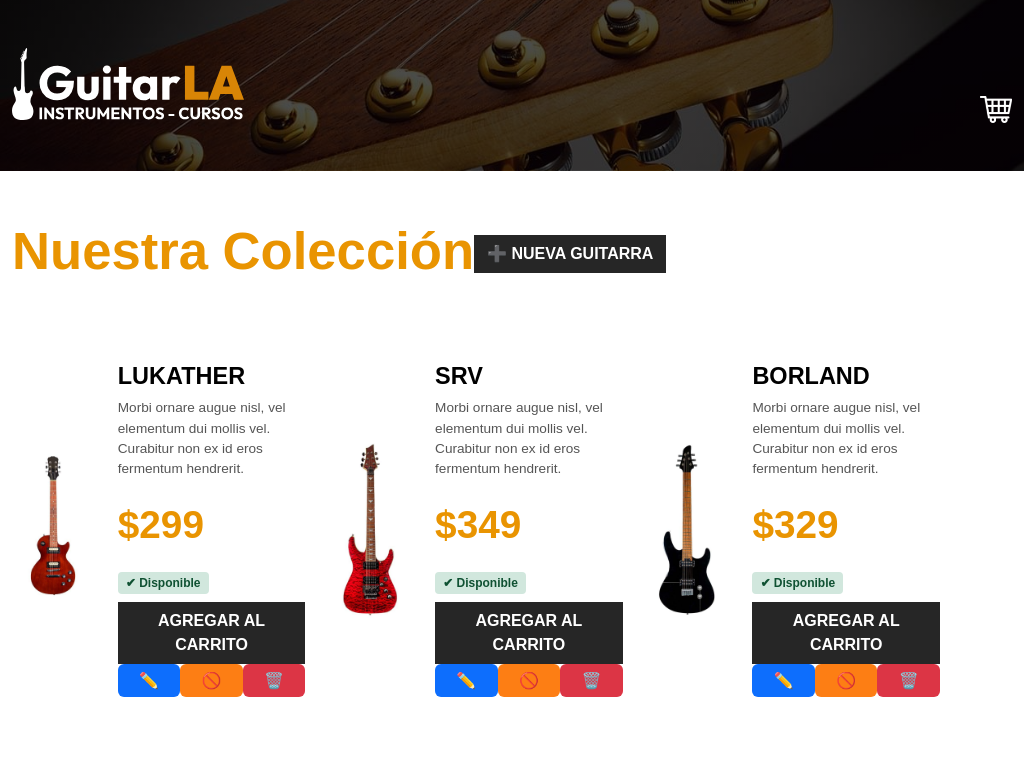
Test case: Modal de guitarra (crear/editar) › deberia cerrar el modal al hacer clic en "Cancelar"
What coordinates should you click on to do the following:
click the button titled "Agregar nueva guitarra"
I would click on:
 (570, 254)
Its box is [474,235,666,273].
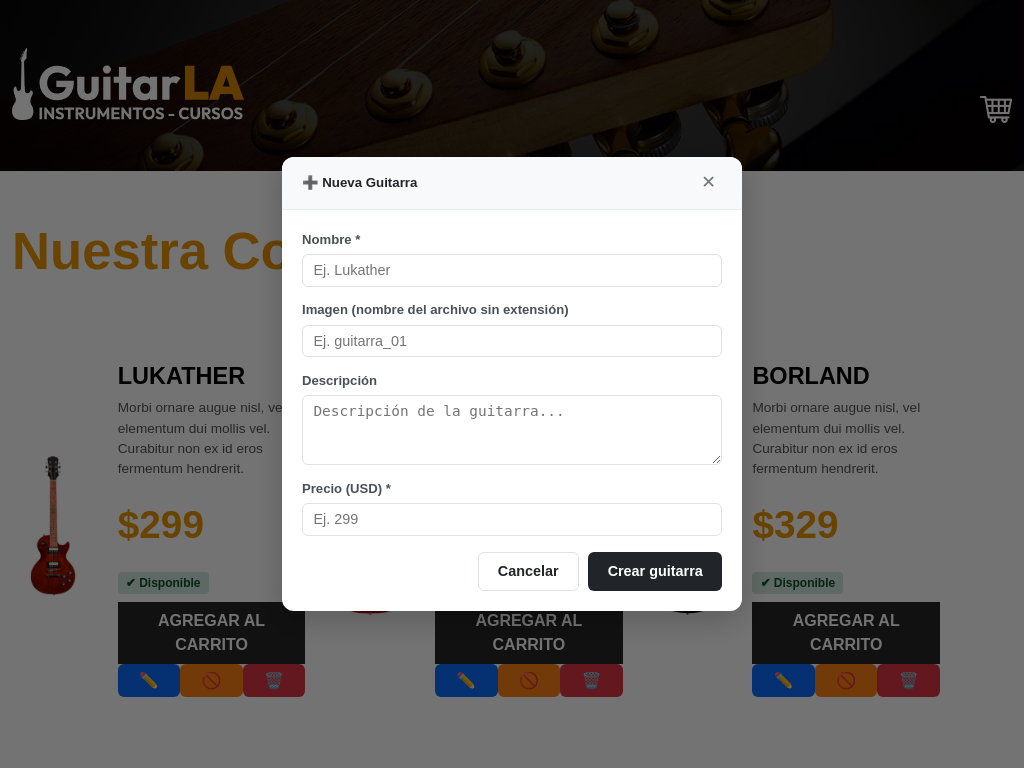
Expected: the button "Crear guitarra" is shown, [588,552,722,591]
What coordinates should you click on to do the following:
click the button "Cancelar"
I would click on:
 (528, 571)
Its box is [478,552,579,591].
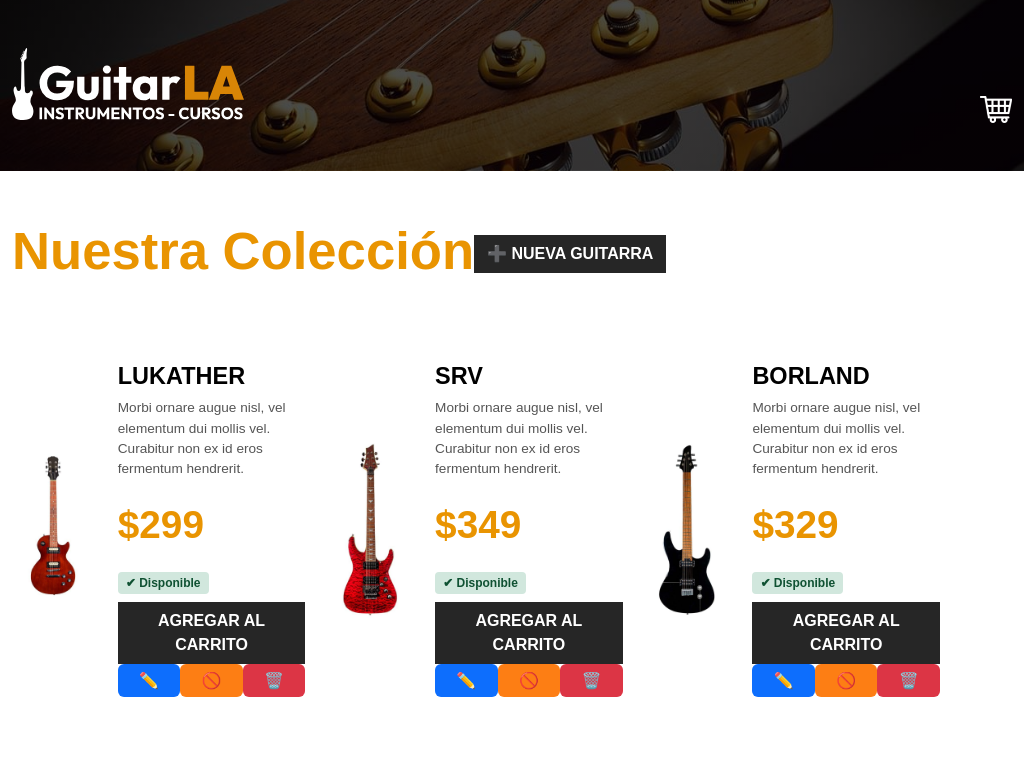
Expected: the button "Crear guitarra" is gone
